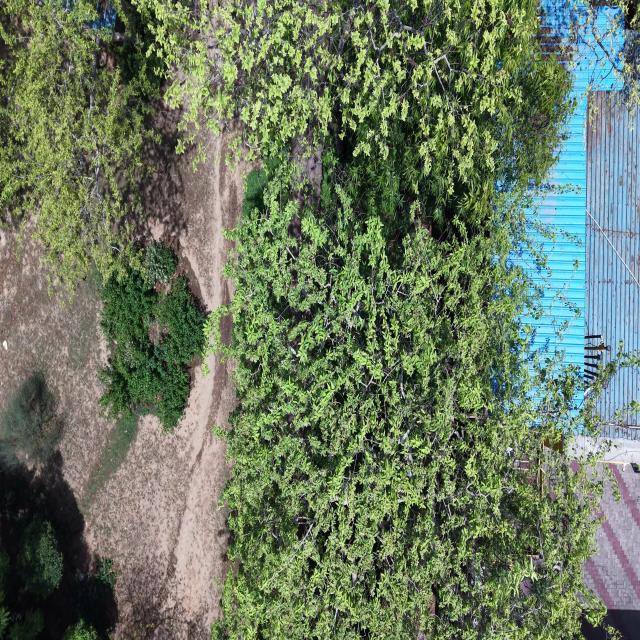DRY_AREA: (0, 222, 235, 639), (0, 231, 234, 638), (88, 357, 234, 637), (0, 225, 114, 580), (0, 225, 114, 537), (0, 222, 111, 496), (583, 464, 639, 639)
ROOFTOP_BUILDING: (532, 0, 639, 386), (533, 0, 639, 388), (585, 91, 639, 376), (583, 464, 639, 639), (89, 0, 116, 31), (92, 0, 116, 30)
VEGETATION_TREE: (0, 0, 603, 639), (203, 2, 602, 639), (214, 155, 602, 639), (0, 0, 569, 289), (133, 0, 639, 192), (136, 0, 571, 214), (0, 0, 204, 429), (204, 0, 570, 218), (0, 0, 159, 296), (0, 374, 113, 639), (0, 460, 117, 639), (100, 244, 205, 431), (0, 516, 113, 639), (552, 0, 639, 111), (100, 272, 157, 415), (0, 516, 64, 639), (0, 372, 61, 467), (83, 414, 137, 507), (18, 519, 63, 597), (144, 242, 177, 286), (8, 610, 44, 639), (0, 550, 10, 637), (63, 620, 98, 639), (96, 558, 117, 588)
